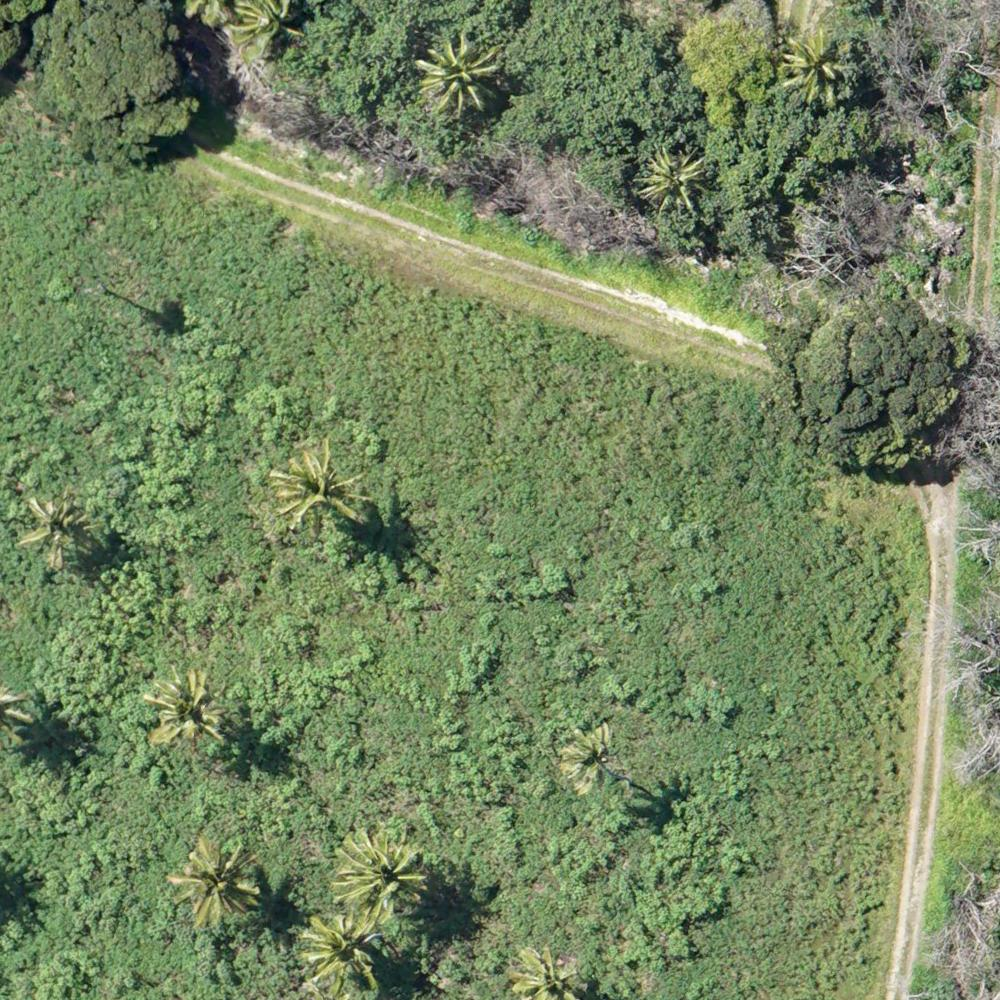Palm: (334, 830, 426, 916), (172, 834, 264, 917), (271, 447, 365, 527), (412, 29, 497, 112), (140, 672, 226, 752), (300, 911, 383, 982), (23, 494, 93, 562), (780, 30, 849, 98), (513, 942, 586, 1000), (638, 147, 702, 211), (564, 721, 621, 790)
